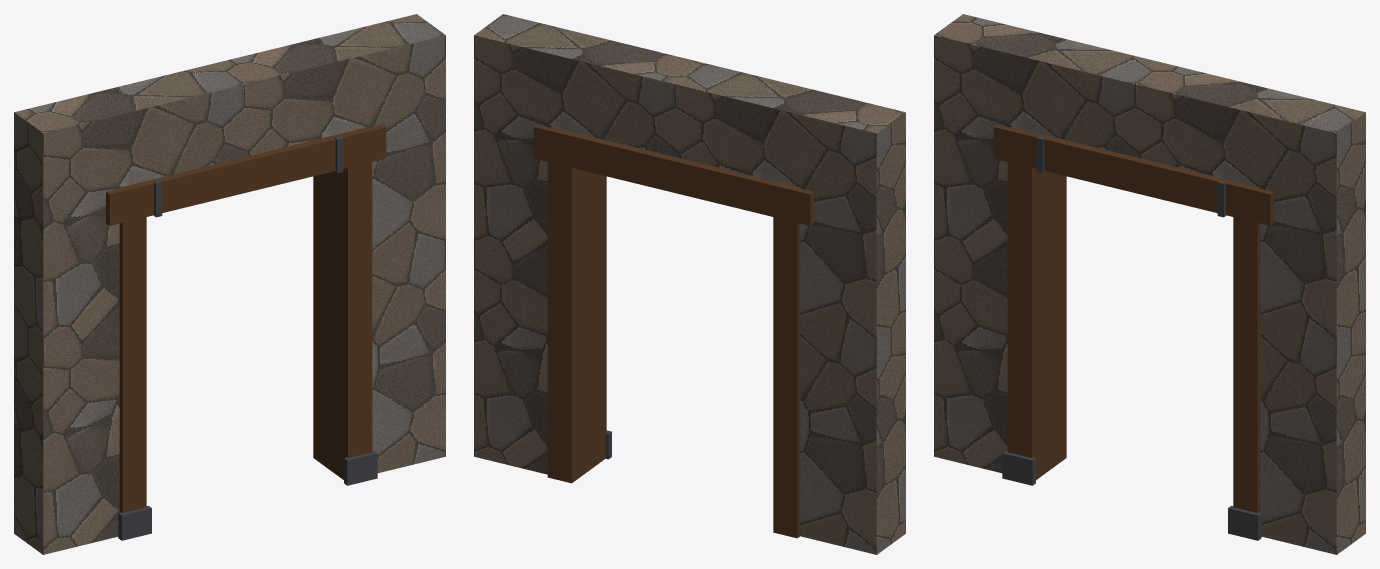
The model's file is mine_wall_entrance.glb.
3 renders of one model, left to right at view 1: azimuth 30°, elevation 25°; view 2: azimuth 150°, elevation 25°; view 3: azimuth 330°, elevation 25°, orthographic.
Parts seen in each view (by area): view 1: mine_wall_entrance; view 2: mine_wall_entrance; view 3: mine_wall_entrance.
Part boxes in pixels (<box>): mine_wall_entrance: <box>14,14,445,554</box>; mine_wall_entrance: <box>474,14,905,554</box>; mine_wall_entrance: <box>934,14,1365,554</box>.
Size of the model in its own units: 4 by 4 by 0.65.
3 materials, 1 textured.
